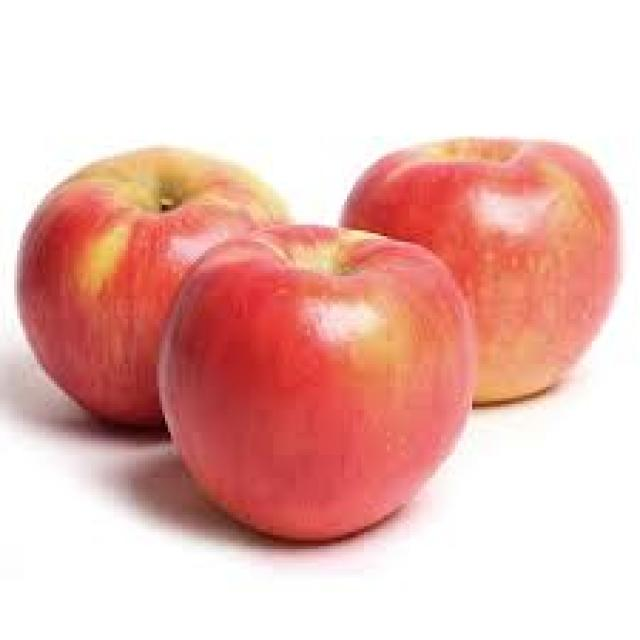apple: (154, 226, 474, 544)
